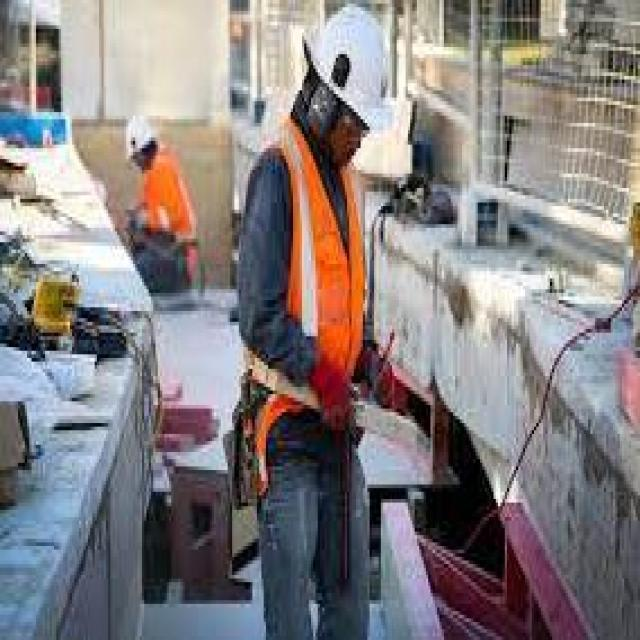reflective_jacket: (227, 119, 380, 448), (137, 148, 207, 274)
safety_helmet: (295, 3, 407, 144), (117, 104, 164, 166)
